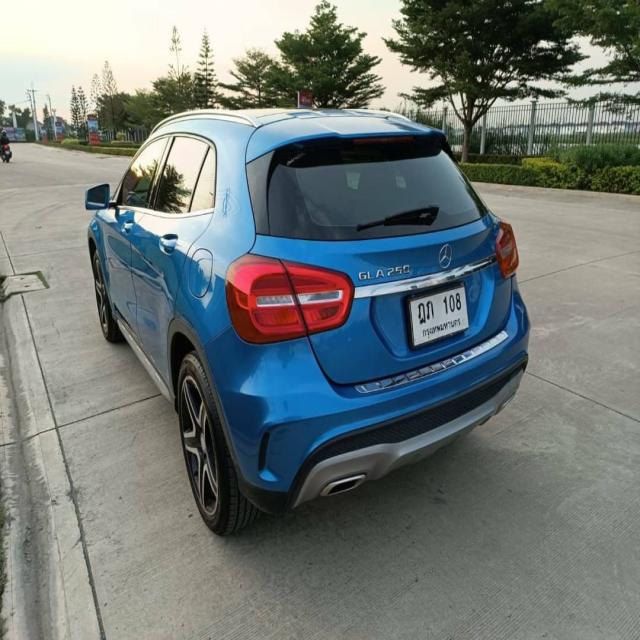license_plate: (404, 278, 471, 349)
